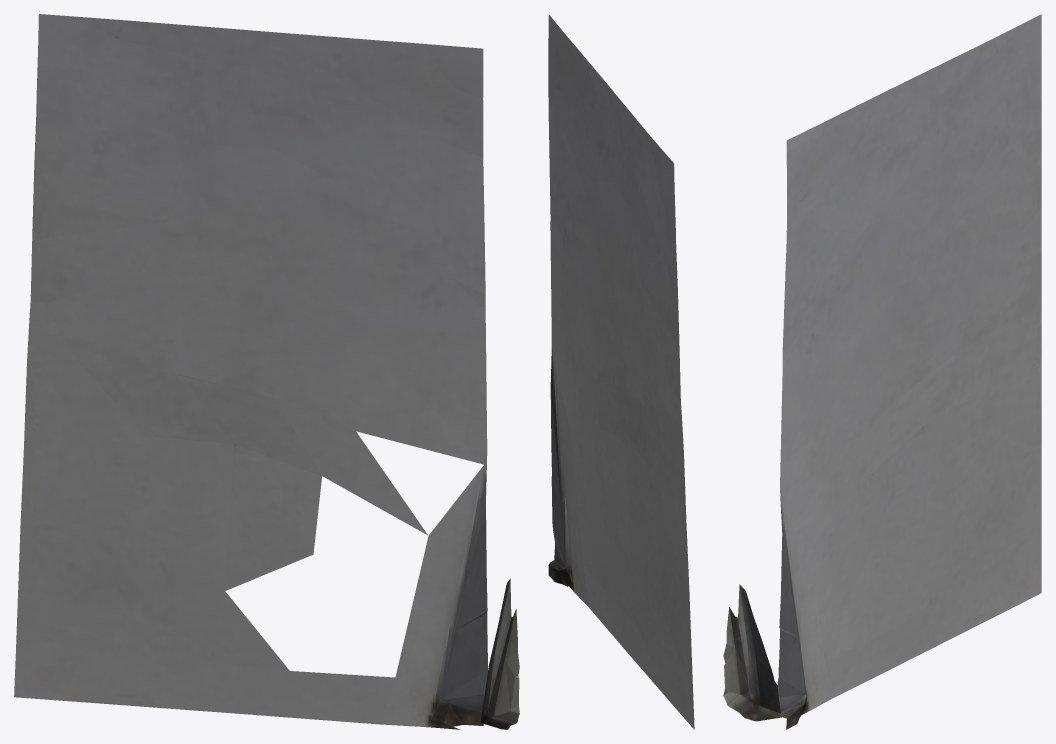
3 renders of one model, left to right at view 1: azimuth 30°, elevation 25°; view 2: azimuth 150°, elevation 25°; view 3: azimuth 270°, elevation 25°, orthographic. The views are drawn at different scales.
Size of the model in its own units: 1.67 by 3.35 by 1.64.
Materials: 2 (2 with a texture image).
